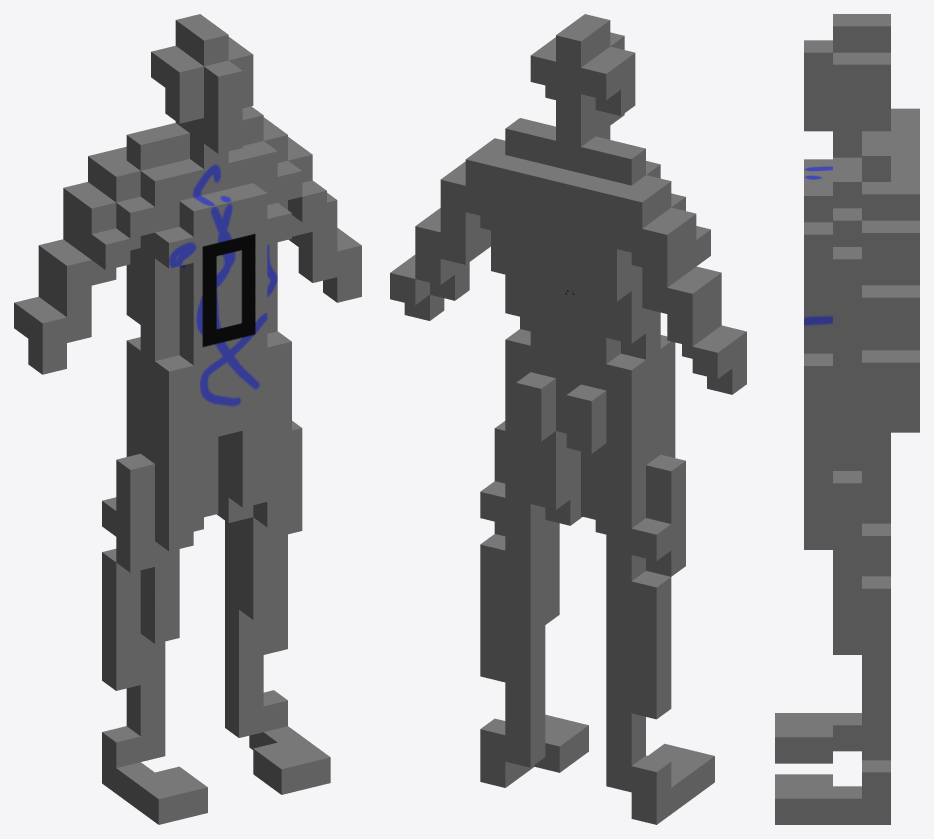
Rendered from prueba_texturas_2.glb.
3 renders of one model, left to right at view 1: azimuth 30°, elevation 25°; view 2: azimuth 150°, elevation 25°; view 3: azimuth 270°, elevation 25°, orthographic. The views are drawn at different scales.
Visible parts, largest first — view 1: node_id3; view 2: node_id3; view 3: node_id3.
Boxes of the visible parts, <box> form: node_id3: <box>14,14,361,824</box>; node_id3: <box>390,14,746,824</box>; node_id3: <box>775,14,919,824</box>.
Bounding box in the file's own units: 0.2295 × 0.512 × 0.0883.
Materials: 1 (1 with a texture image).
